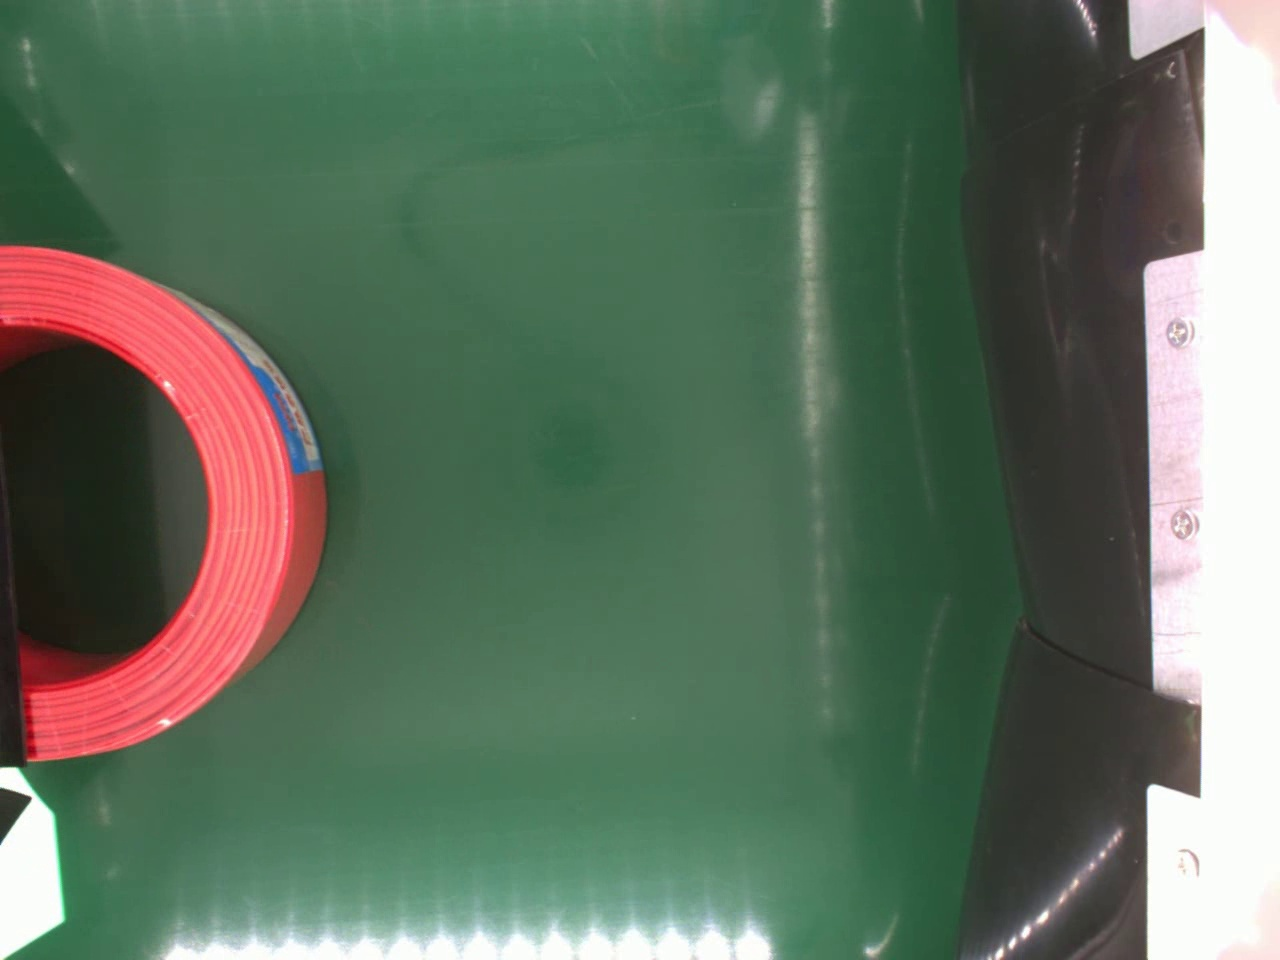red: (0, 248, 331, 767)
